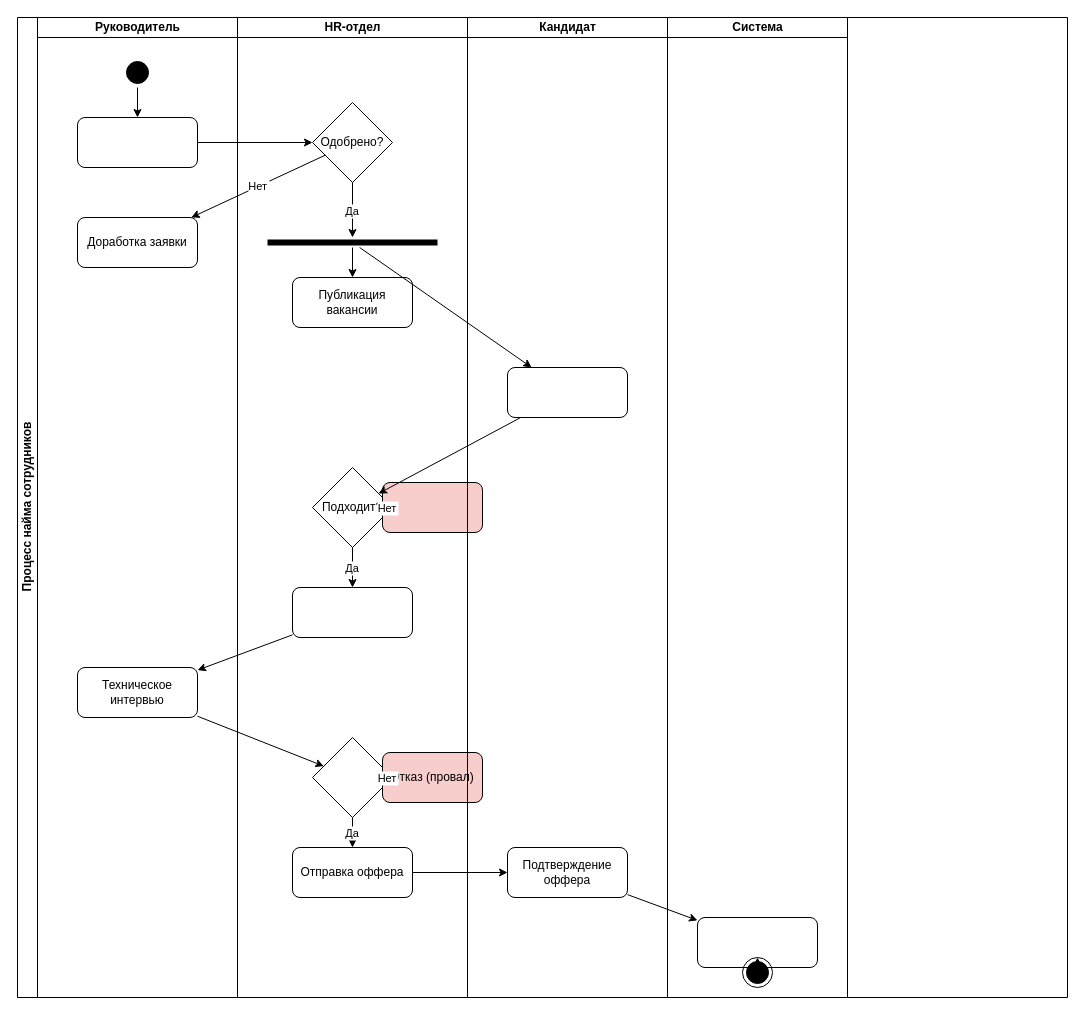
This 1085x1015 diagram has some shape labels left out. Each missing label, with the centre of its shape:
Добавление в БД: pixel 757 942
Отказ кандидату: pixel 432 507
Первичное интервью: pixel 352 612
Подача заявки: pixel 567 392
Создание заявки: pixel 137 142
Успешно?: pixel 352 777
